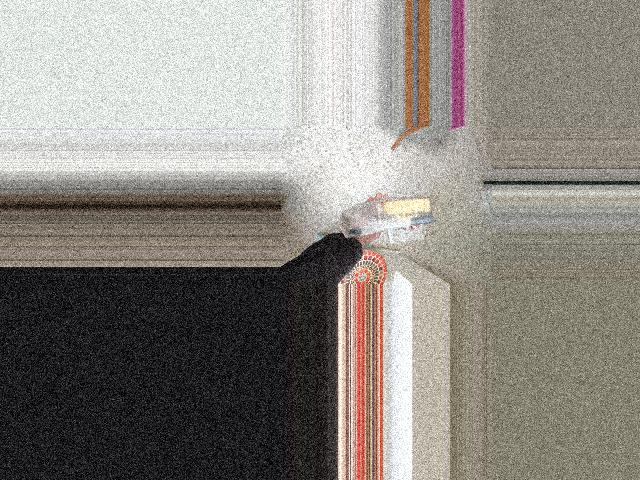cheese: (343, 195, 433, 237)
